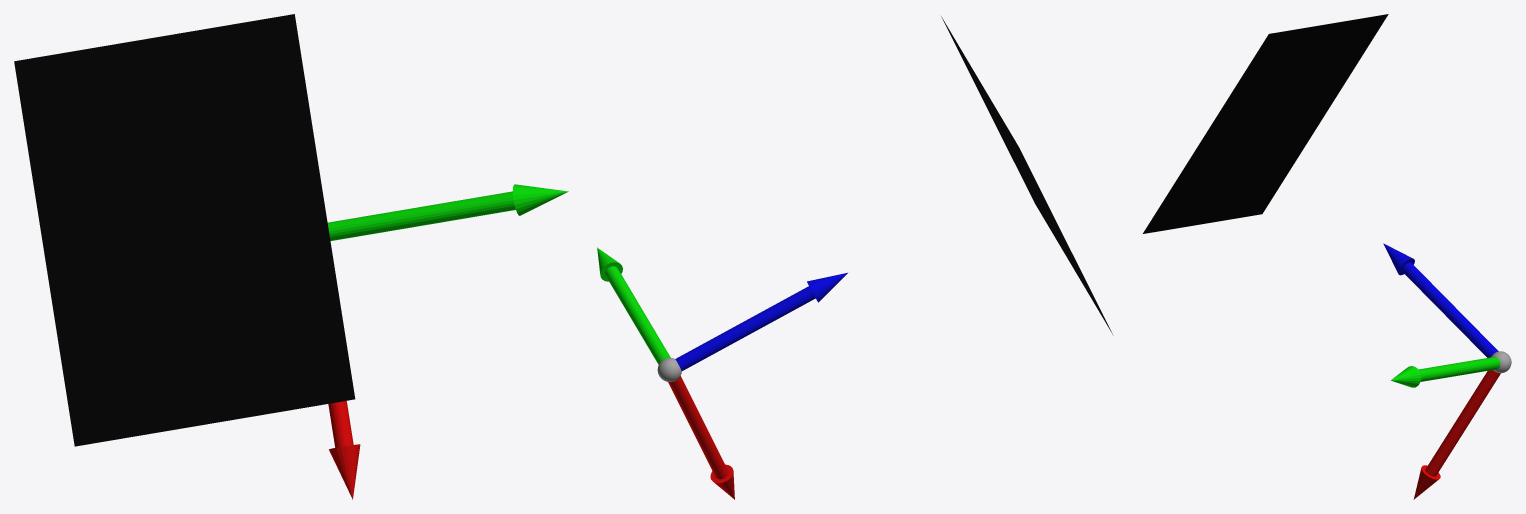
3 views of the same model, side by side, from view 1: azimuth 30°, elevation 25°; view 2: azimuth 150°, elevation 25°; view 3: azimuth 270°, elevation 25° (orthographic). The views are drawn at different scales.
Bounding box in the file's own units: 0.3161 × 0.3101 × 0.2521.
